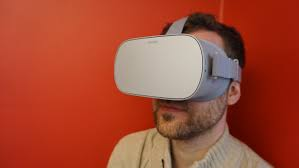oculus: (114, 35, 234, 101)
